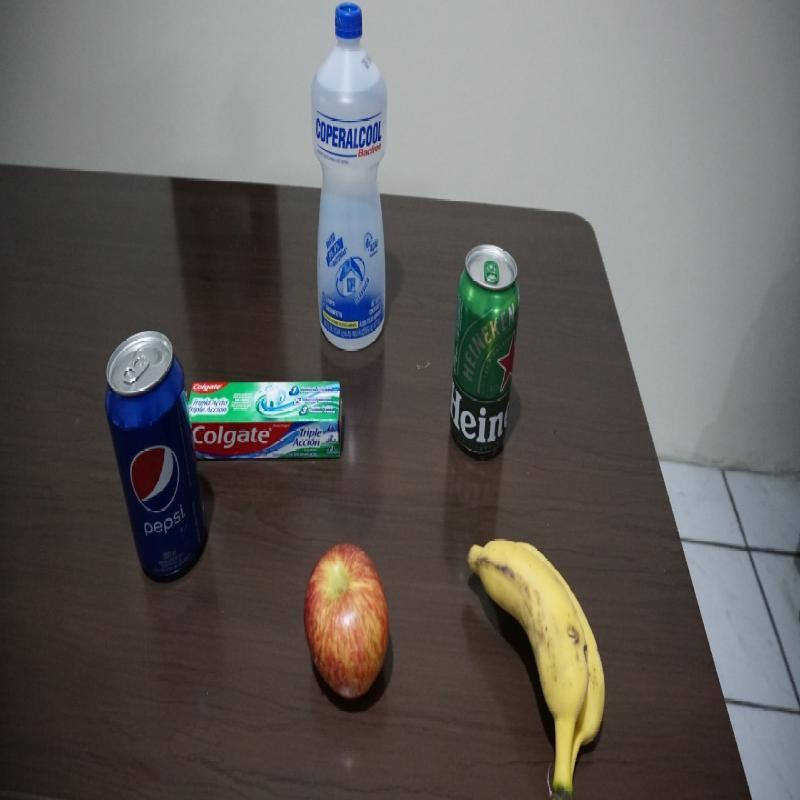Alcohol Bottle: (309, 3, 390, 353)
Apple: (300, 542, 390, 702)
Banana: (465, 535, 609, 798)
Beer can: (448, 242, 522, 458)
Soda can: (104, 328, 206, 587)
Toothpaste: (187, 378, 342, 459)
